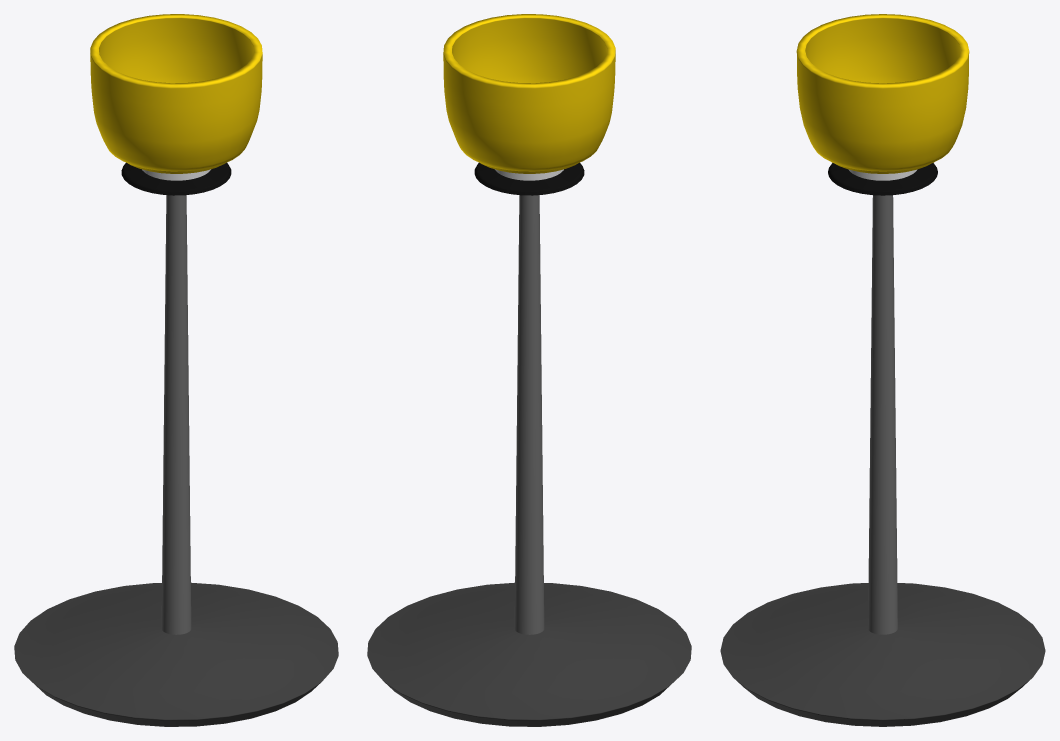
The model's file is CeilingTableLights.fbx.
3 views of the same model, side by side, from view 1: azimuth 30°, elevation 25°; view 2: azimuth 150°, elevation 25°; view 3: azimuth 270°, elevation 25° (orthographic).
Parts seen in each view (by area): view 1: CeilingTableLights; view 2: CeilingTableLights; view 3: CeilingTableLights.
Part boxes in pixels (x1,y1,x2,y2): CeilingTableLights: (14,14,338,726); CeilingTableLights: (367,14,691,726); CeilingTableLights: (720,14,1045,726).
Bounding box in the file's own units: 229 × 476 × 229.
